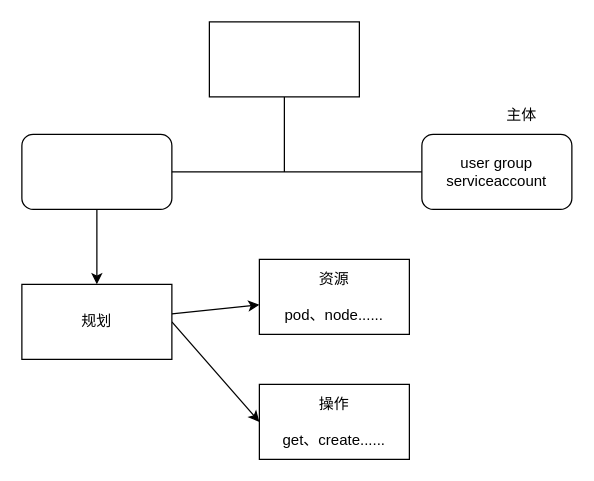
The diagram is 594 pixels wide and 481 high, and some of its shapes have lost their labels. The shapes that lost their labels are listed below. From the top down, each one's centre as x and y in pixels, then its label:
At point 283,59: "角色绑定".
At point 96,171: "角色 Role ClusterRole".
